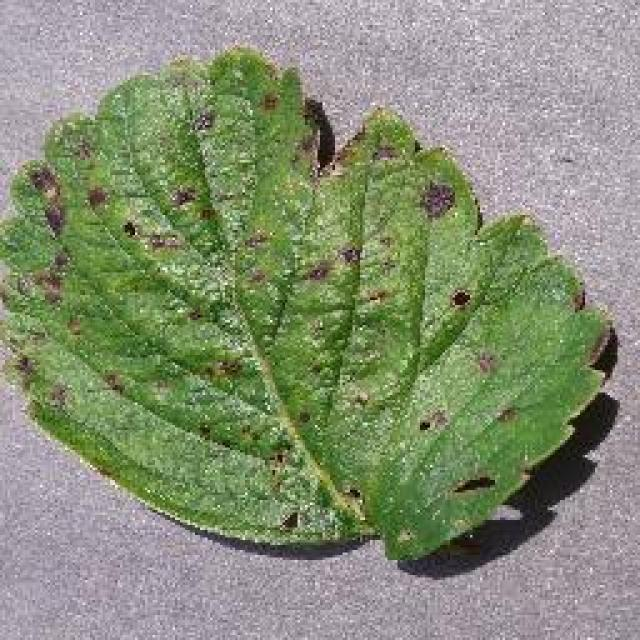Strawberry leaf scorch: (55, 145, 460, 450)
